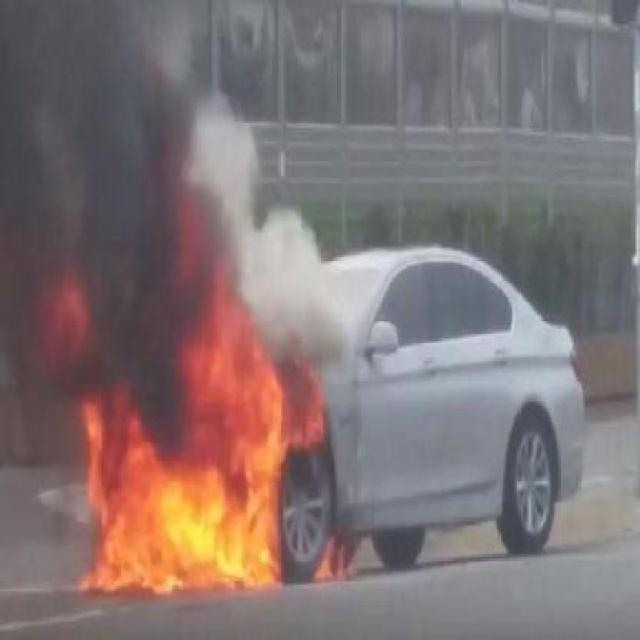Fire: (26, 262, 450, 628)
Smoke: (20, 38, 308, 268)
